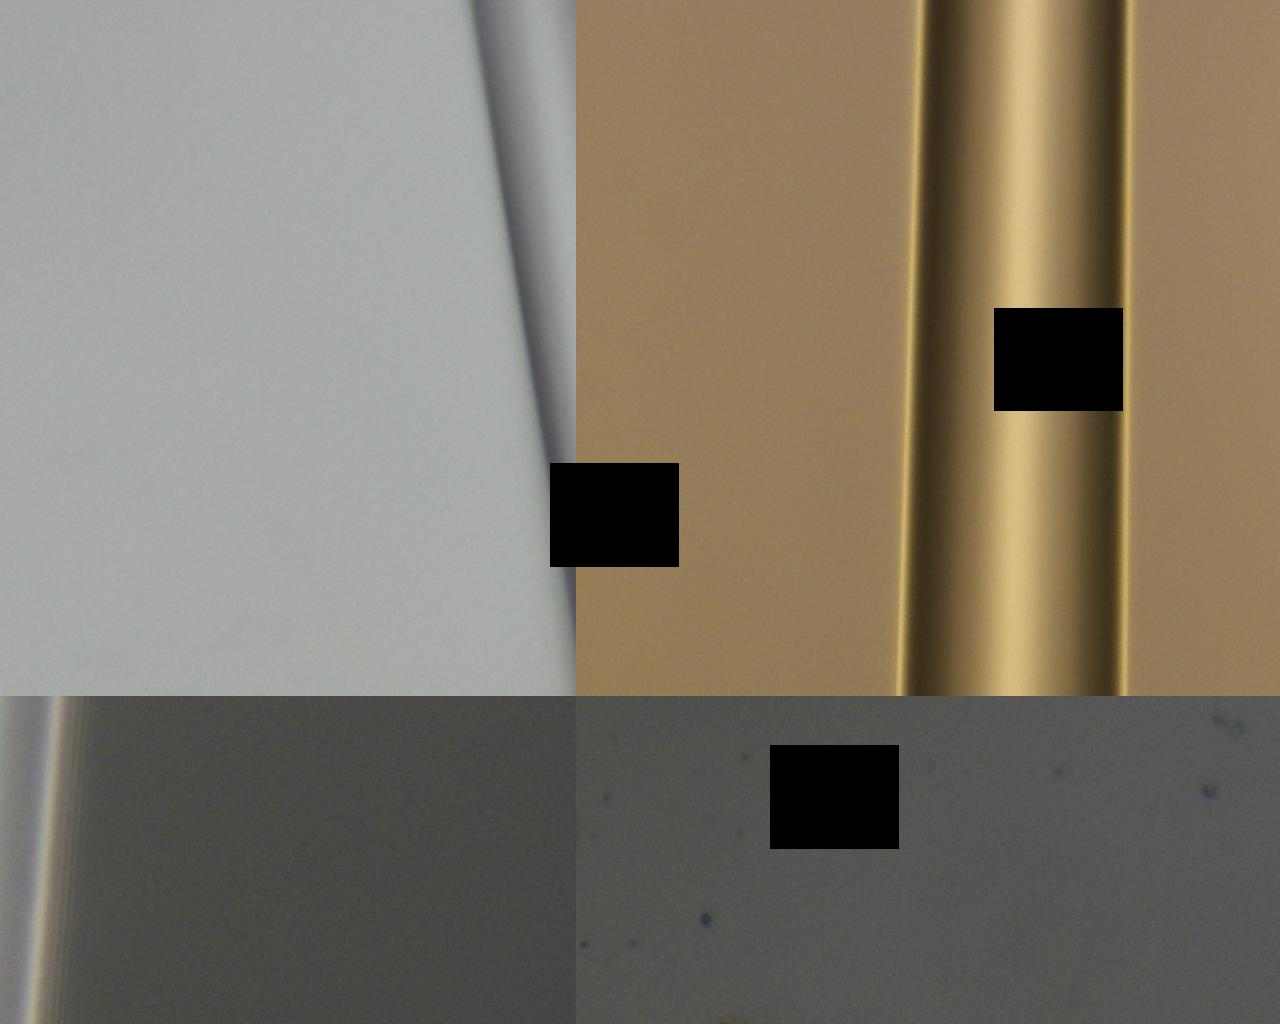fiber: (127, 209, 1151, 260)
